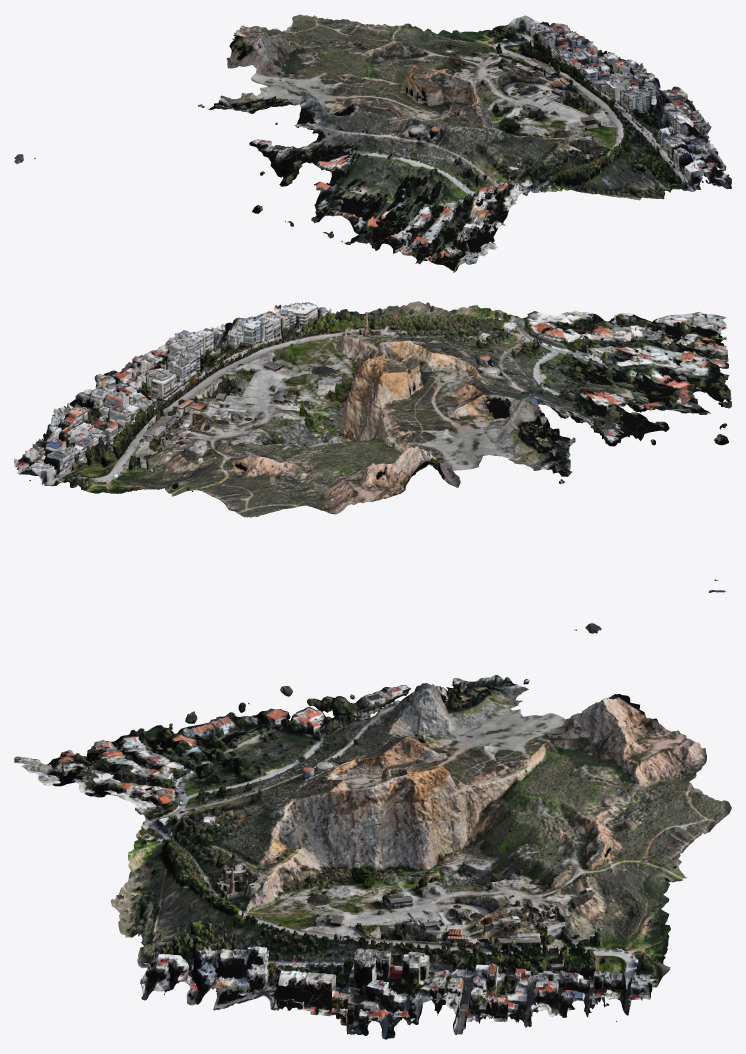
Rendered from lato-hero.glb.
3 renders of one model, top to bottom at view 1: azimuth 30°, elevation 25°; view 2: azimuth 150°, elevation 25°; view 3: azimuth 270°, elevation 25°, orthographic. The views are drawn at different scales.
Visible parts, largest first — view 1: Mesh_0; view 2: Mesh_0; view 3: Mesh_0.
Boxes of the visible parts, x1=… form: Mesh_0: x1=14, y1=14, x2=731, y2=272; Mesh_0: x1=14, y1=301, x2=731, y2=592; Mesh_0: x1=14, y1=623, x2=731, y2=1039.
Bounding box in the file's own units: 729 × 117 × 595.
Materials: 2 (2 with a texture image).
